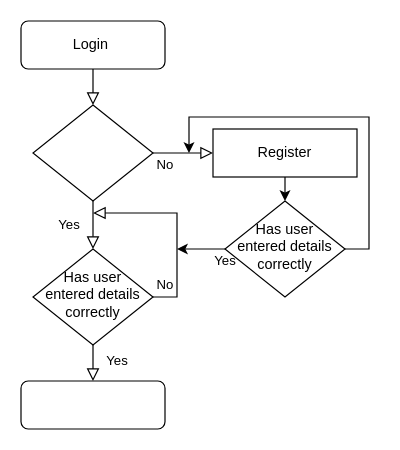
This 400x450 diagram has some shape labels left out. The box of each missing label's shape, as (x1, y1, x2, y2) in pixels:
Does user have account: (32, 104, 153, 201)
Login successful: (20, 380, 165, 429)
